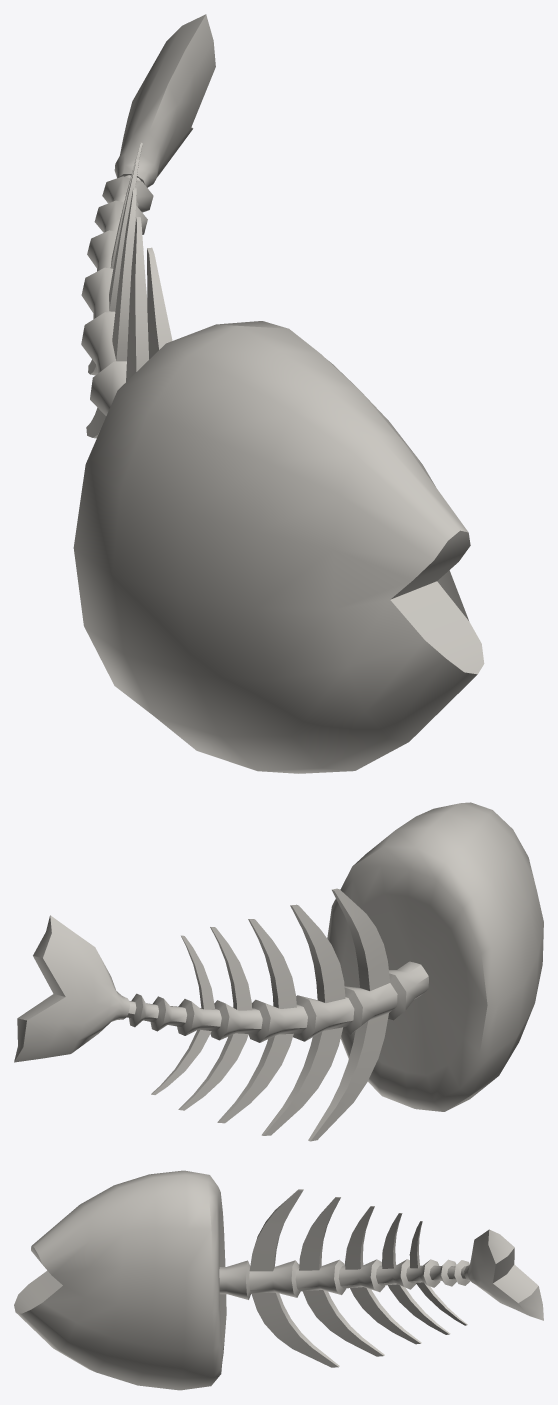
File: Pez_02.fbx
3 views of the same model, one above another, from view 1: azimuth 30°, elevation 25°; view 2: azimuth 150°, elevation 25°; view 3: azimuth 270°, elevation 25° (orthographic). The views are drawn at different scales.
Visible parts, largest first — view 1: Pez_02; view 2: Pez_02; view 3: Pez_02.
Part boxes in pixels (x1,y1,x2,y2): Pez_02: [73, 14, 484, 773]; Pez_02: [14, 802, 543, 1141]; Pez_02: [14, 1170, 543, 1390].
Bounding box in the file's own units: 46.48 × 46.87 × 101.
